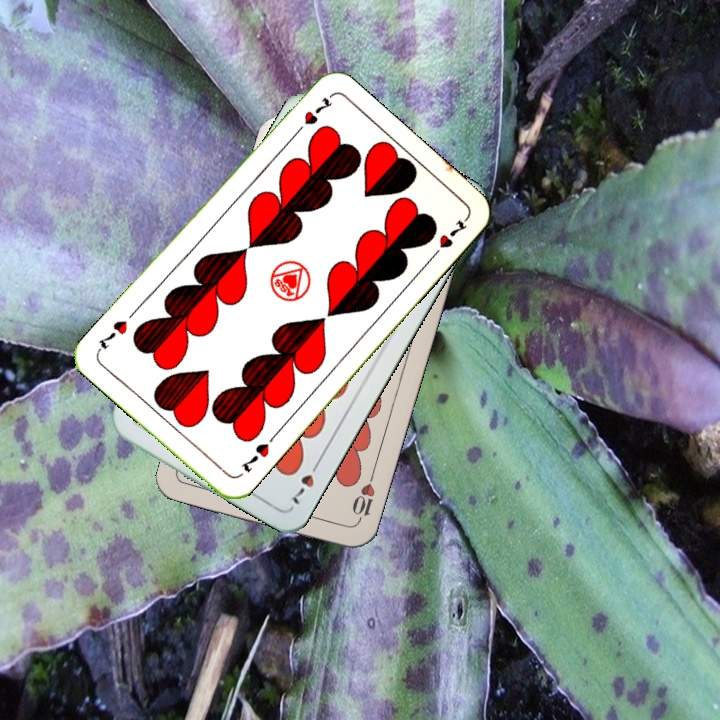H10: (348, 470, 378, 528)
H7: (289, 92, 335, 139), (285, 455, 324, 508), (236, 438, 272, 475)
